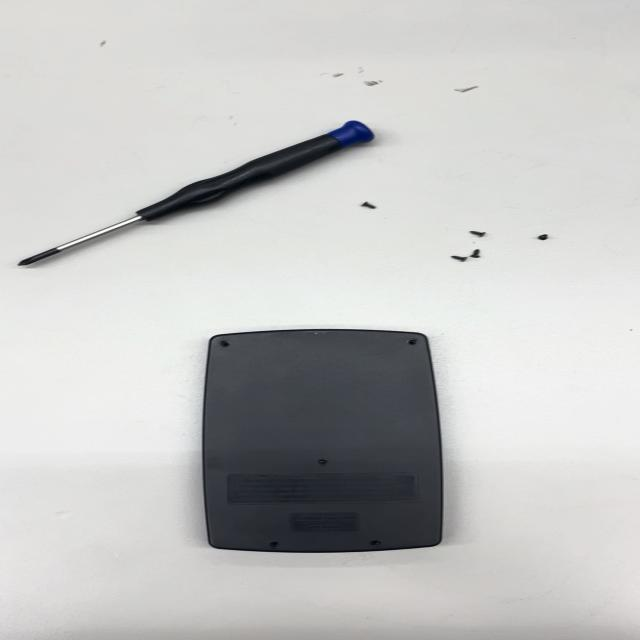back_cover: (194, 326, 455, 557)
screw: (443, 252, 471, 266), (357, 195, 381, 211), (464, 226, 487, 240), (467, 247, 489, 258), (533, 231, 550, 243)
screw_driver: (19, 118, 373, 270)
